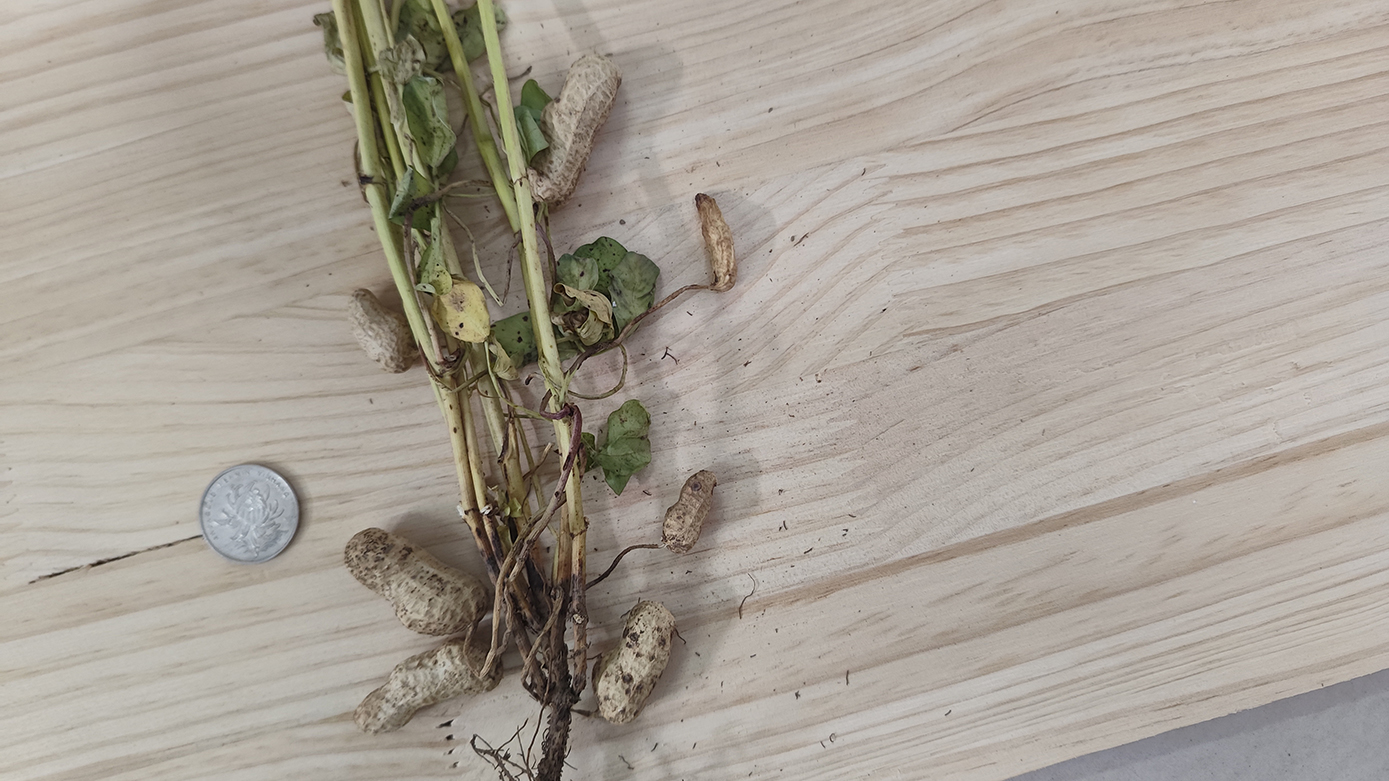h: (343, 527, 488, 637), (530, 51, 623, 207), (352, 639, 502, 733), (591, 600, 677, 726), (346, 286, 411, 372), (662, 471, 717, 556)
l: (694, 193, 736, 292)
